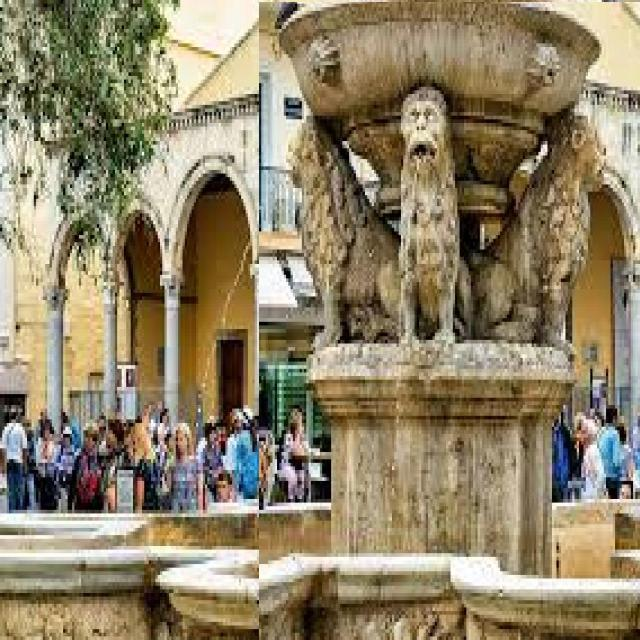Liontaria: (260, 3, 640, 640)
